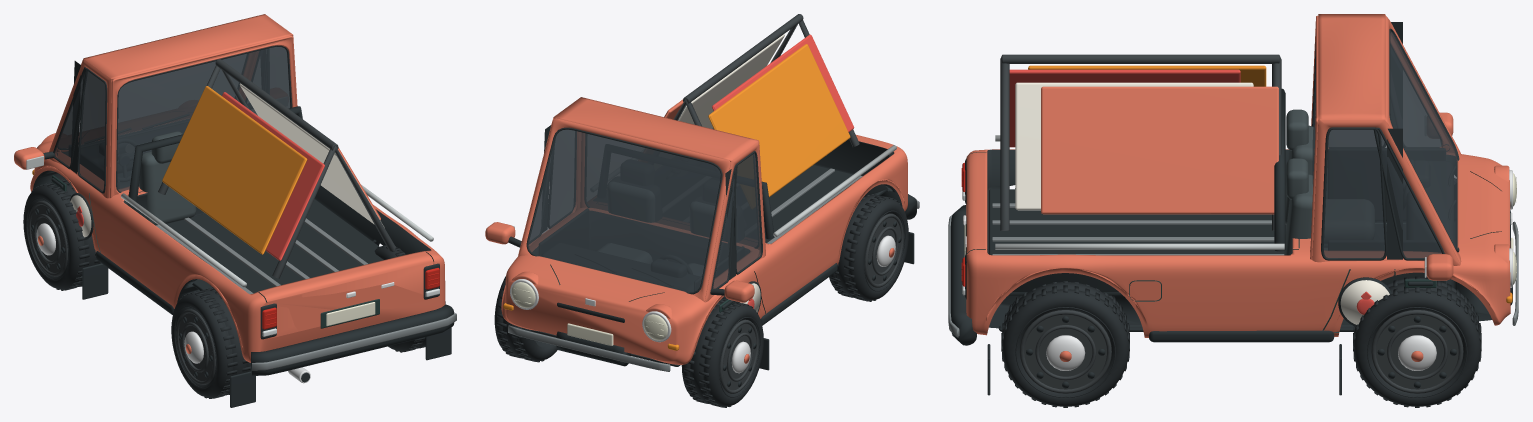
The model's file is pitbody.fbx.
3 renders of one model, left to right at view 1: azimuth 30°, elevation 25°; view 2: azimuth 150°, elevation 25°; view 3: azimuth 270°, elevation 25°, orthographic. The views are drawn at different scales.
Visible parts, largest first — view 1: Body, Wheel_RL_Mesh, Wheel_FL_Mesh, Wheel_RR_Mesh; view 2: Body, Wheel_FL_Mesh, Wheel_RL_Mesh, Wheel_FR_Mesh; view 3: Body, Wheel_RR_Mesh, Wheel_FR_Mesh.
Boxes of the visible parts, x1,y1,x2,y2 form: Body: (14, 14, 456, 407); Wheel_RL_Mesh: (171, 287, 250, 398); Wheel_FL_Mesh: (23, 179, 101, 290); Wheel_RR_Mesh: (374, 245, 445, 352); Body: (485, 14, 919, 371); Wheel_FL_Mesh: (681, 298, 763, 407); Wheel_RL_Mesh: (829, 194, 908, 301); Wheel_FR_Mesh: (494, 276, 557, 362); Body: (948, 14, 1518, 395); Wheel_RR_Mesh: (1001, 281, 1129, 407); Wheel_FR_Mesh: (1353, 276, 1481, 407).
Bounding box in the file's own units: 230 × 200 × 357.
